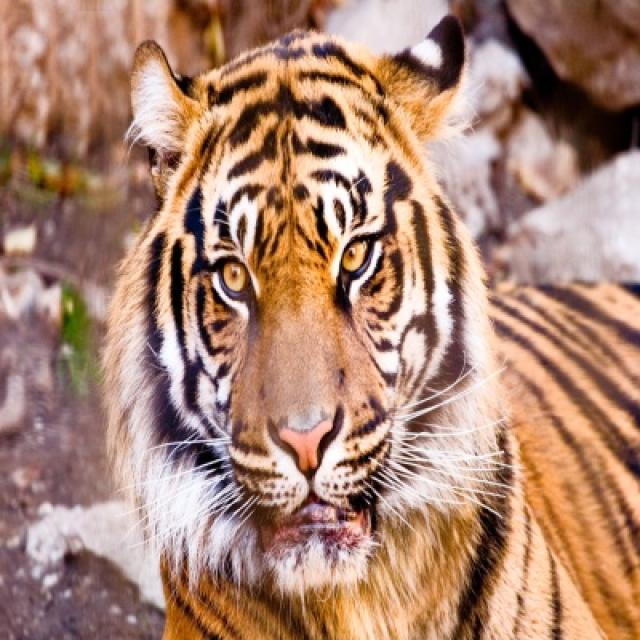Tiger: (118, 14, 638, 633)
